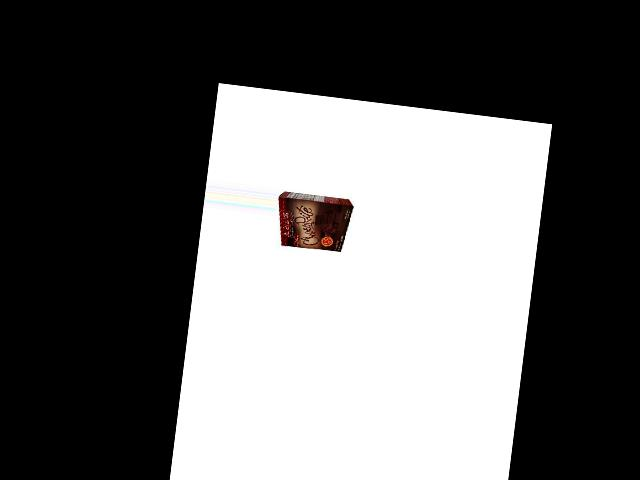chocolate: (274, 191, 354, 255)
